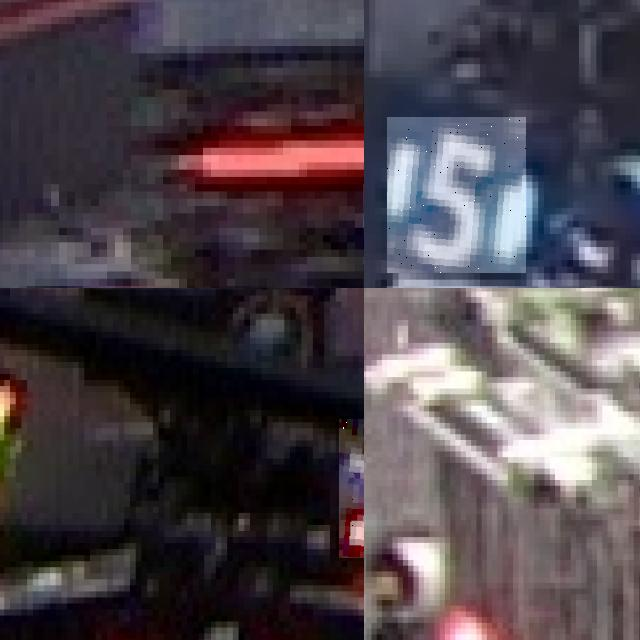B5: (387, 117, 526, 273)
R4: (89, 609, 301, 640)
